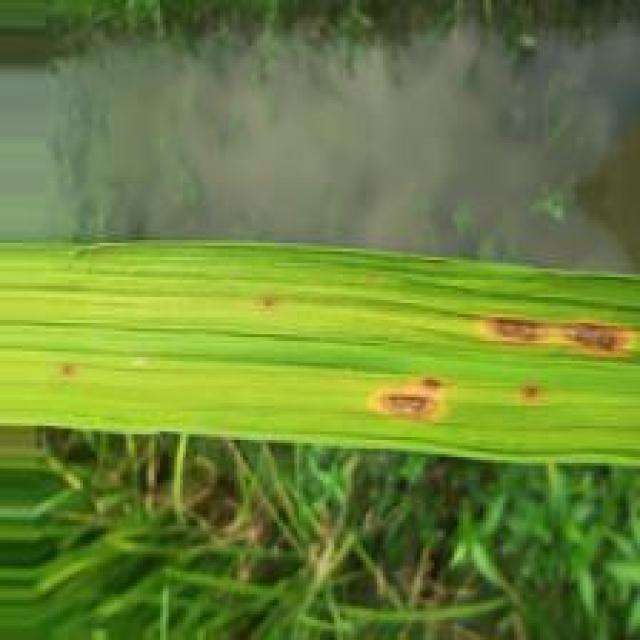Narrow_Brown_Leaf_Spot: (458, 306, 640, 360)
